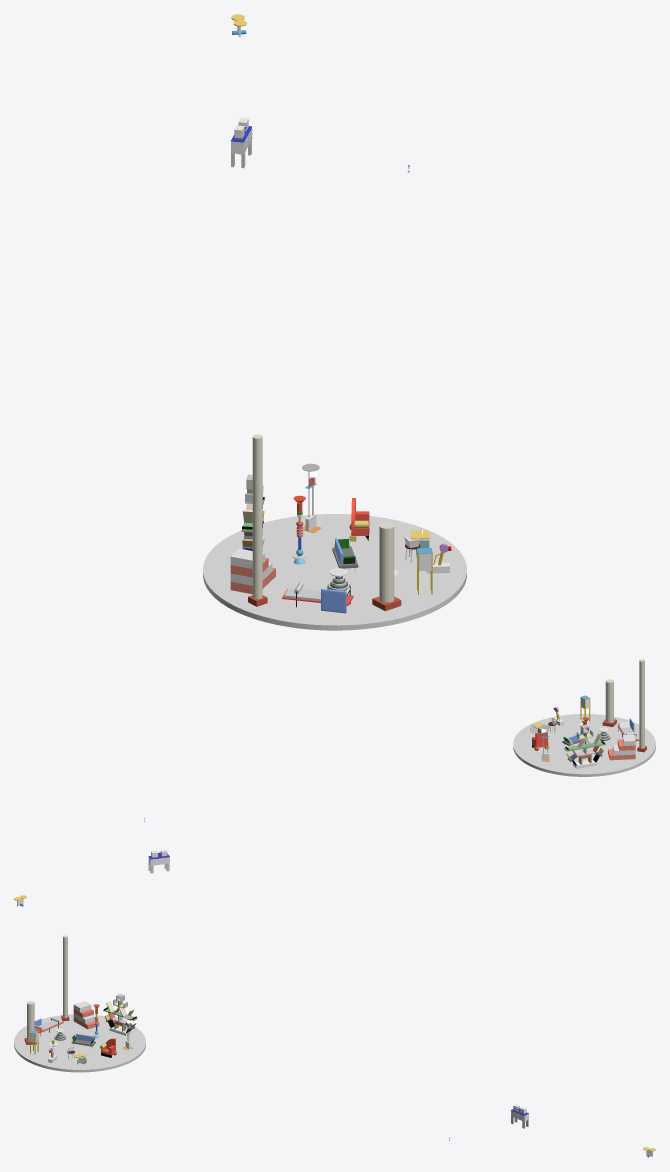
The model's file is STANZA_MEMPHIS.gltf.
The picture shows the model from 3 angles, top to bottom: view 1: azimuth 30°, elevation 25°; view 2: azimuth 150°, elevation 25°; view 3: azimuth 270°, elevation 25°; orthographic projection. The views are drawn at different scales.
Parts seen in each view (by area): view 1: Cylinder, Cylinder.111, Cylinder.089; view 2: Cylinder, Cylinder.111, Cylinder.089; view 3: Cylinder, Cylinder.111.
Part boxes in pixels (x1,y1,x2,y2): Cylinder: (203,514,466,630); Cylinder.111: (252,434,262,599); Cylinder.089: (379,522,394,602); Cylinder: (513,714,655,776); Cylinder.111: (639,659,644,748); Cylinder.089: (605,679,613,722); Cylinder: (14,1014,145,1072); Cylinder.111: (63,935,67,1017).
Bounding box in the file's own units: 29.61 × 8.13 × 55.25.
